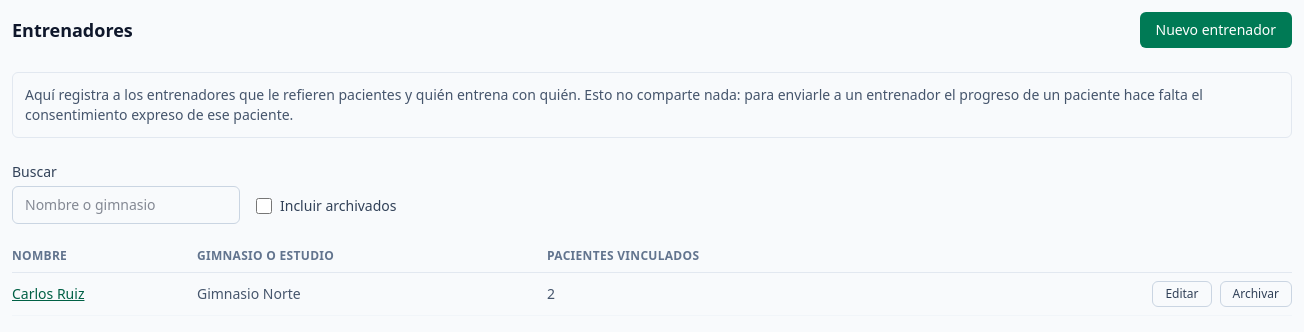
Scenario: CoachesPage › shows a trainer their trainees as identity only — never a measurement
Click the button "Carlos Ruiz" at (48, 294), box [12, 284, 84, 304]
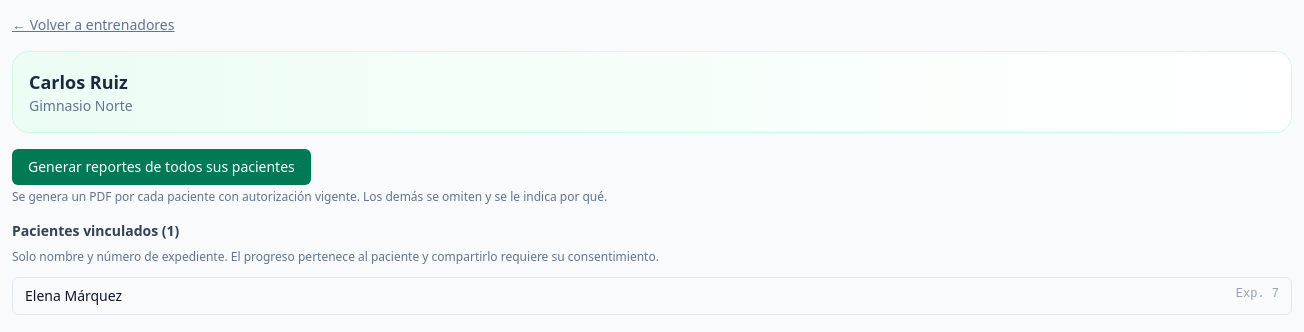
Result: the text "Elena Márquez" is shown at [25, 286, 122, 306]
Result: the text "Exp. 7" is shown at [1236, 286, 1279, 306]
Result: the heading "Pacientes vinculados (1)" is shown at [12, 221, 179, 240]
